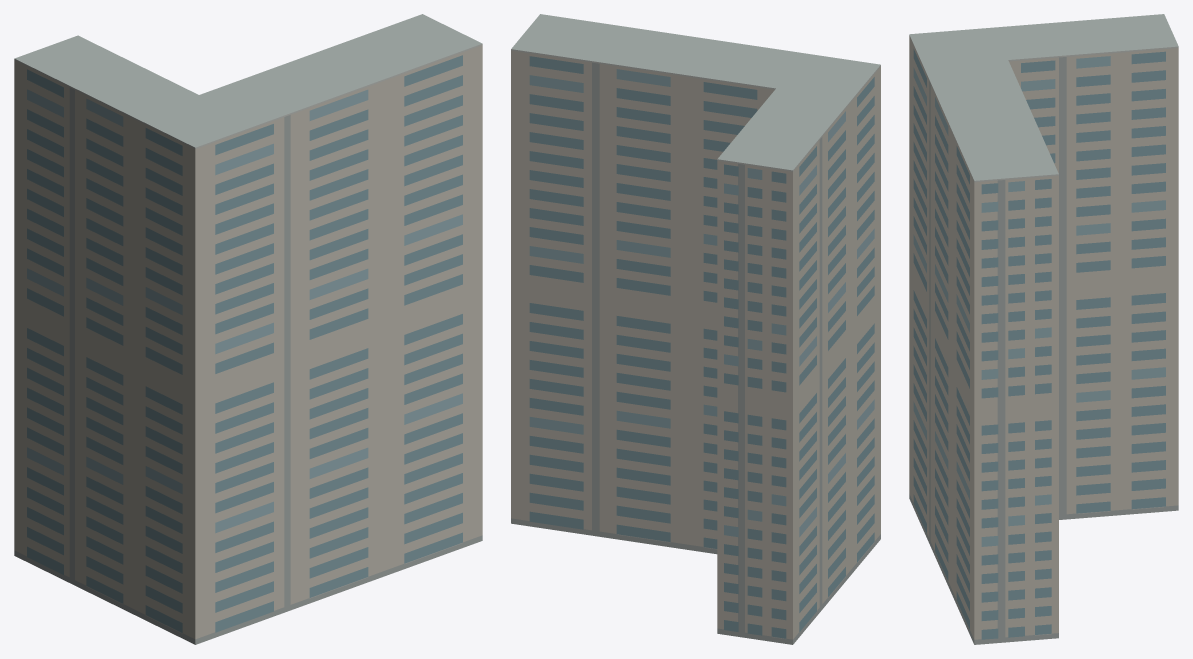
Rendered from residential-47283884-233a-45f9-8798-9c13c4eb1f75.glb.
3 views of the same model, side by side, from view 1: azimuth 30°, elevation 25°; view 2: azimuth 150°, elevation 25°; view 3: azimuth 270°, elevation 25° (orthographic). The views are drawn at different scales.
Parts seen in each view (by area): view 1: residential-47283884-233a-45f9-8798-9c13c4eb1f75.tmp; view 2: residential-47283884-233a-45f9-8798-9c13c4eb1f75.tmp; view 3: residential-47283884-233a-45f9-8798-9c13c4eb1f75.tmp.
Part boxes in pixels (x1,y1,x2,y2): residential-47283884-233a-45f9-8798-9c13c4eb1f75.tmp: (14, 14, 482, 644); residential-47283884-233a-45f9-8798-9c13c4eb1f75.tmp: (511, 14, 880, 644); residential-47283884-233a-45f9-8798-9c13c4eb1f75.tmp: (909, 14, 1178, 644).
Size of the model in its own units: 60.96 by 79 by 41.6.
